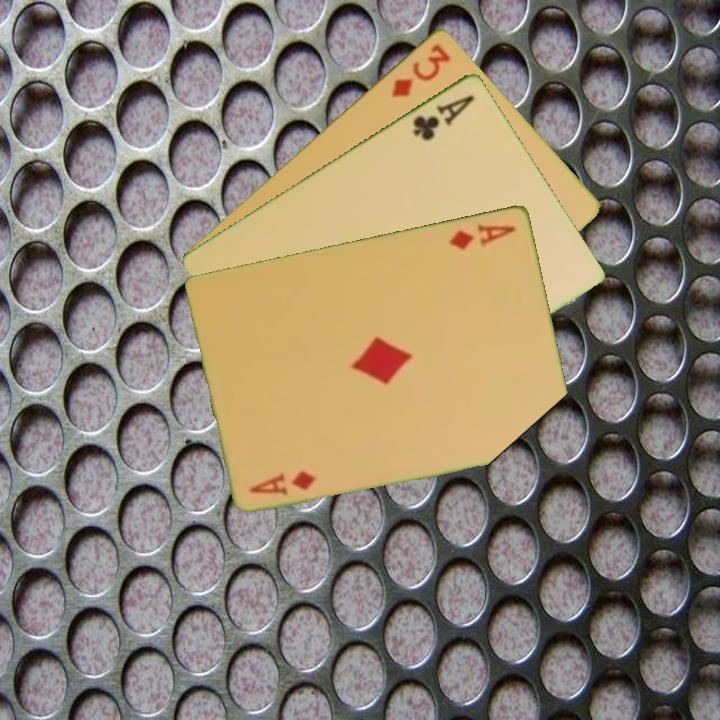3d: (387, 39, 454, 100)
Ac: (409, 90, 478, 143)
Ad: (445, 220, 519, 253), (247, 466, 319, 498)
